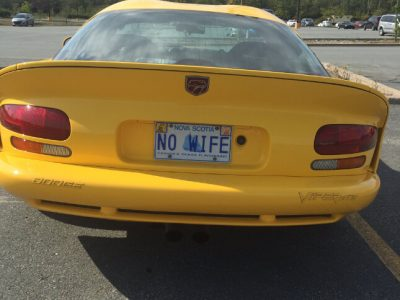license plate: (152, 117, 233, 166)
